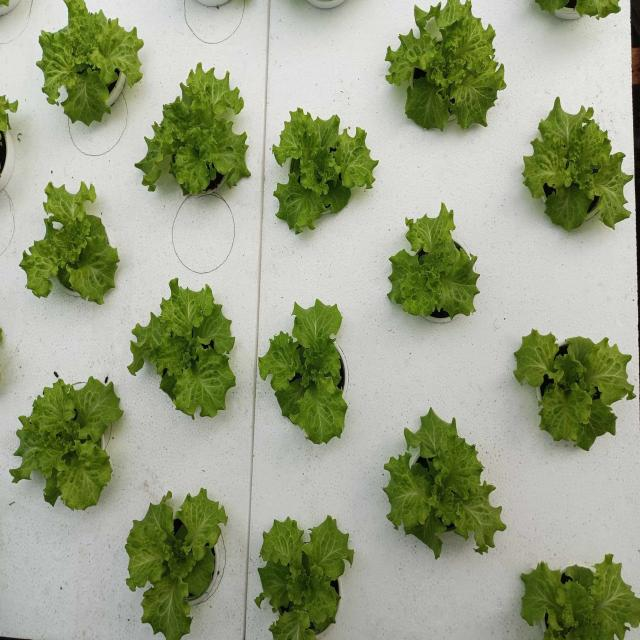Lettuce-Not-Ready-to-Harvest: (391, 407, 508, 562), (511, 325, 634, 452), (138, 54, 248, 191), (12, 369, 118, 511), (128, 279, 235, 417), (386, 8, 507, 130), (125, 491, 226, 637), (527, 96, 634, 233), (15, 175, 120, 306), (38, 0, 146, 125), (262, 299, 348, 442), (278, 105, 375, 228), (261, 512, 355, 634), (389, 201, 476, 326), (522, 553, 640, 640)
